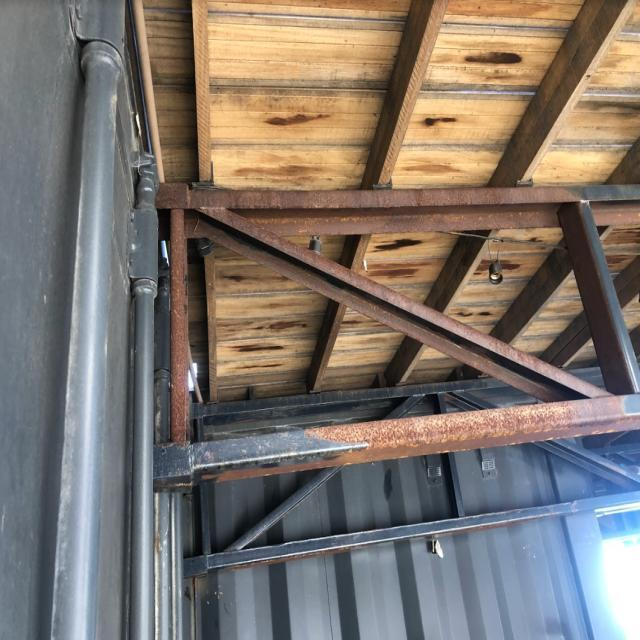Corrosion: (264, 111, 330, 126), (464, 50, 521, 64)
